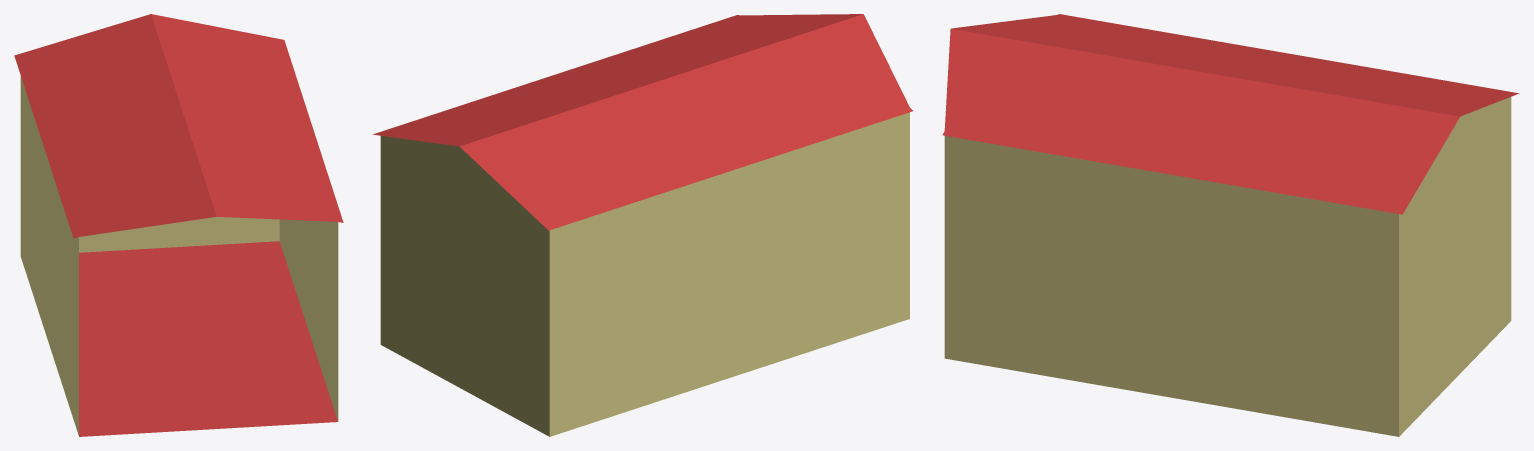
The picture shows the model from 3 angles, left to right: view 1: azimuth 30°, elevation 25°; view 2: azimuth 150°, elevation 25°; view 3: azimuth 270°, elevation 25°; orthographic projection. The views are drawn at different scales.
Size of the model in its own units: 18.68 by 22.72 by 11.46.
